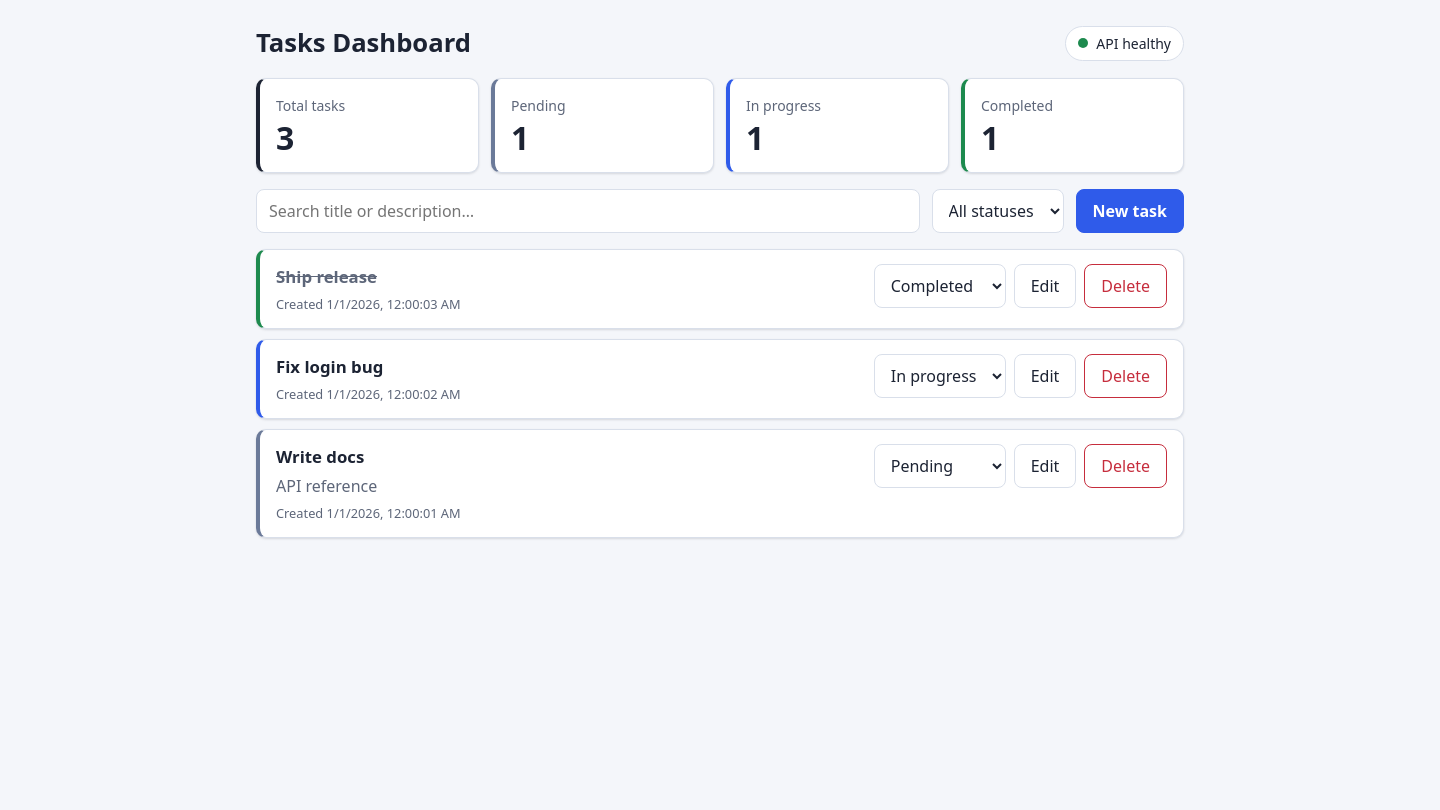
create › closes the dialog with Cancel and Escape without saving
Expected: the heading "Write docs" is shown, [276,445,364,468]
Click the button "New task": (1130,211) [1076,189,1184,233]
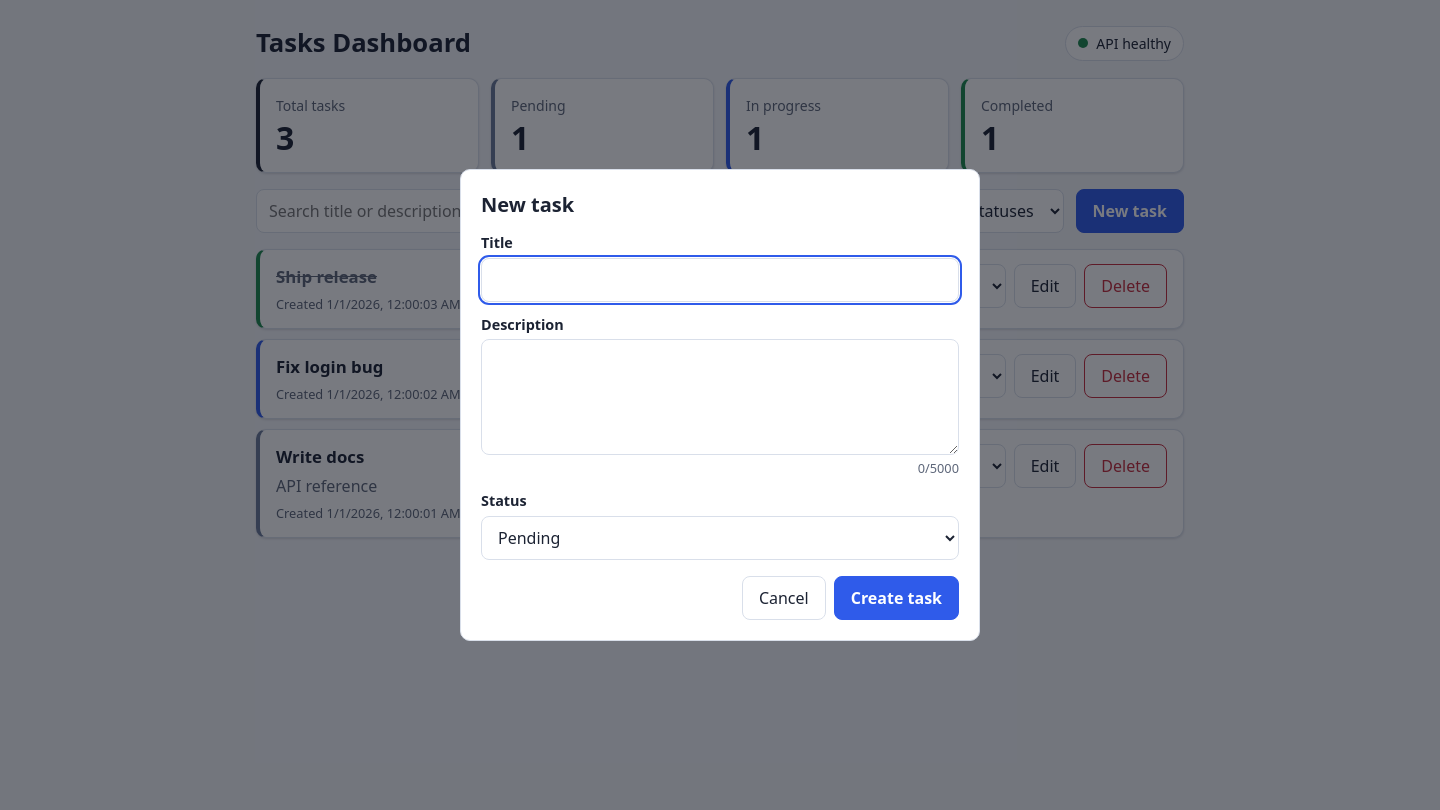
Click the button "Cancel": (784,598) [742,576,826,620]
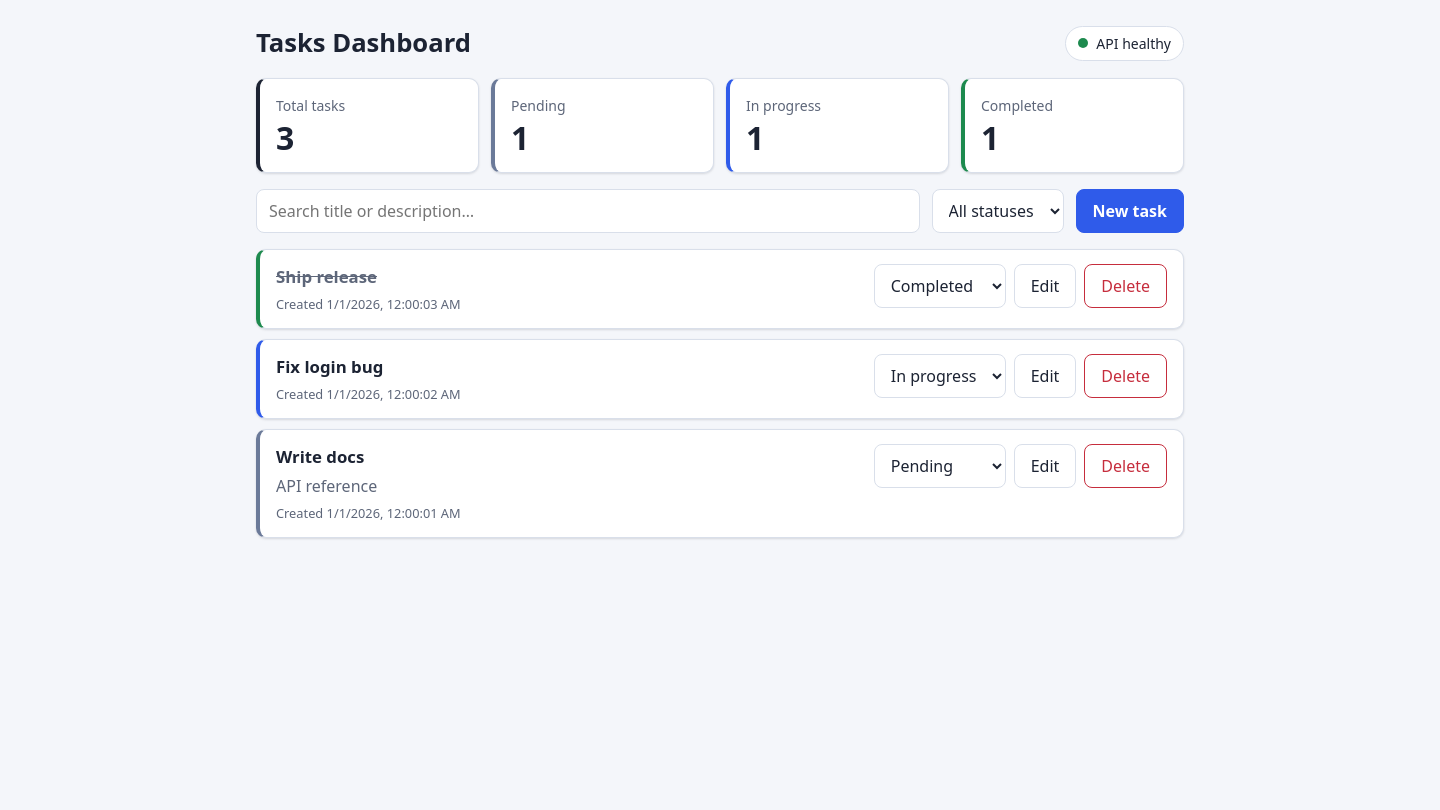
Now the dialog is gone
Click the button "New task": (1130,211) [1076,189,1184,233]
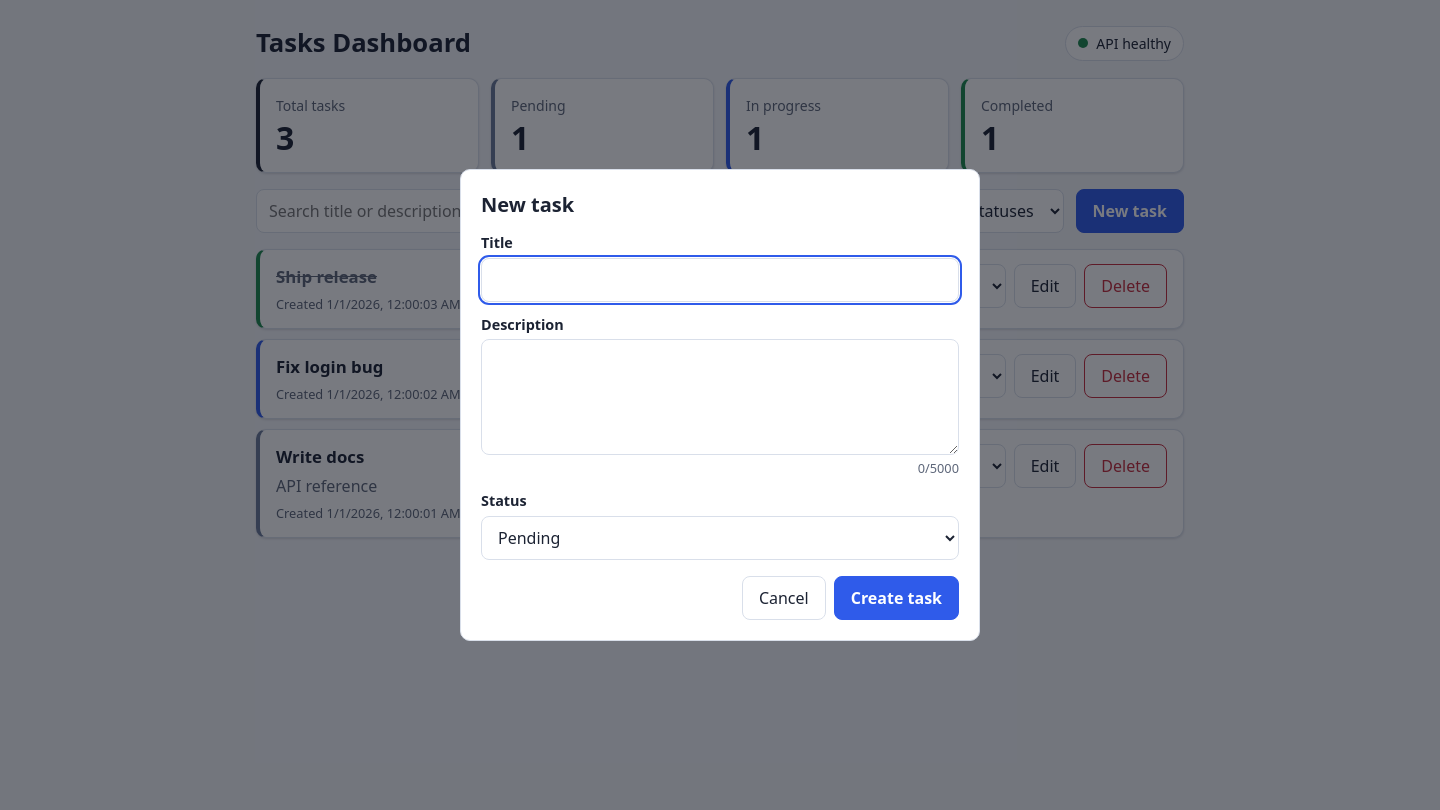
Press Escape
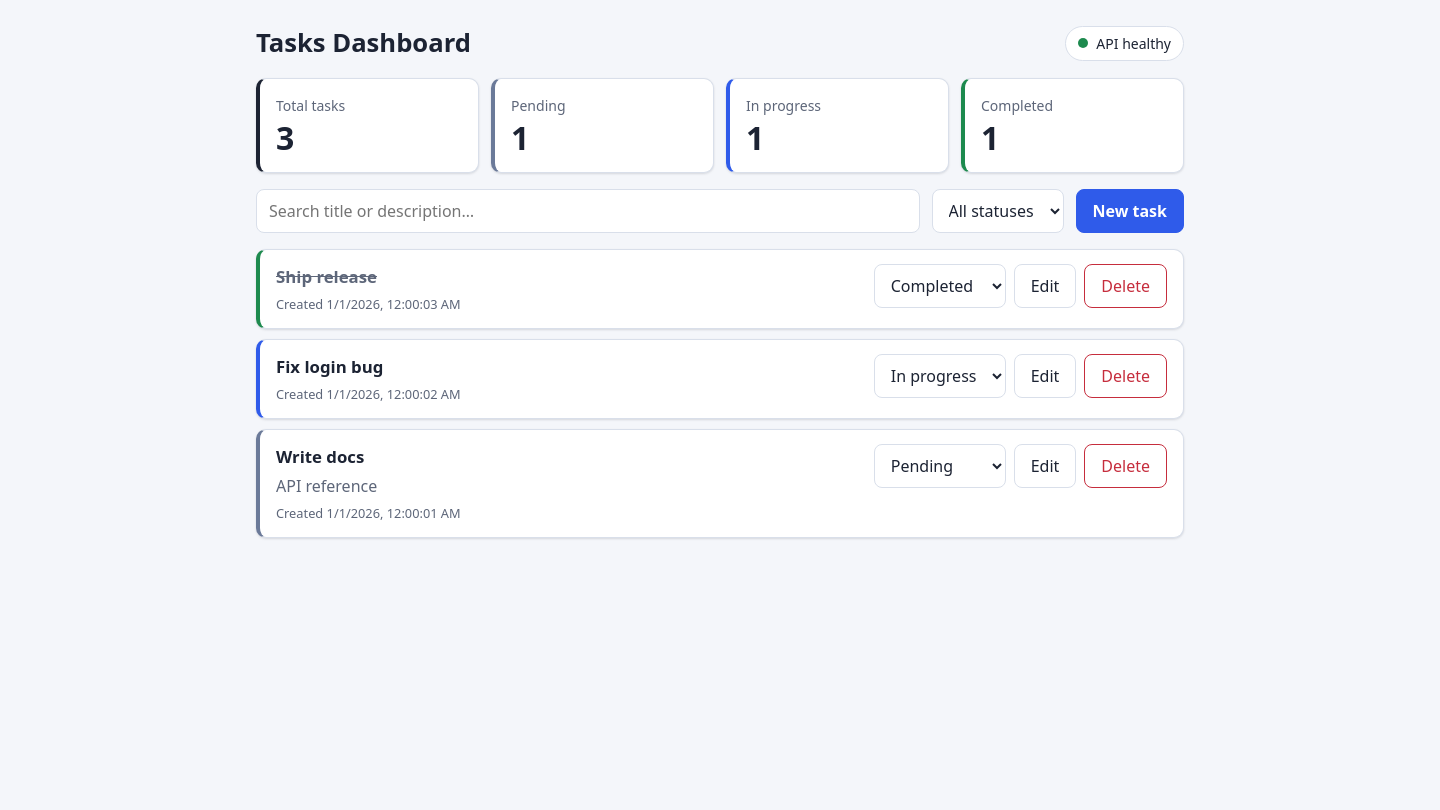
Now the dialog is gone
